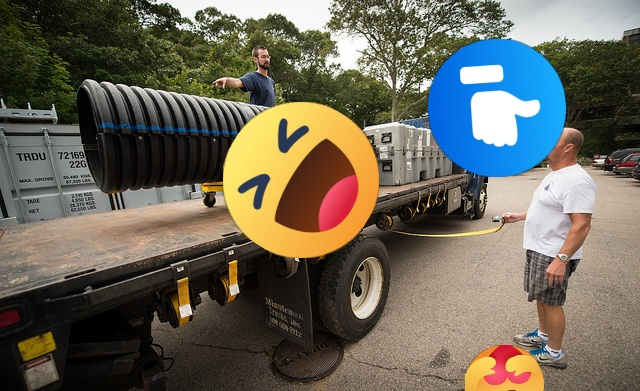care: (465, 345, 544, 391)
haha: (223, 102, 379, 258)
like: (428, 39, 566, 177)
